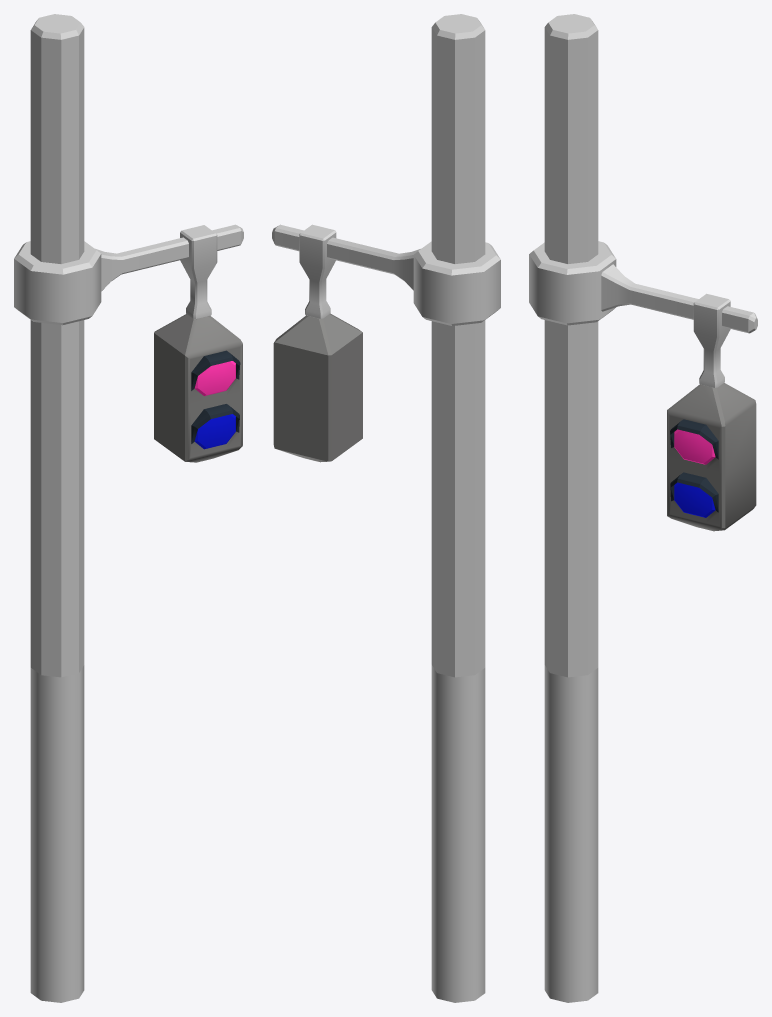
The model's file is 红绿灯03.fbx.
The picture shows the model from 3 angles, left to right: view 1: azimuth 30°, elevation 25°; view 2: azimuth 150°, elevation 25°; view 3: azimuth 330°, elevation 25°; orthographic projection.
Visible parts, largest first — view 1: Cylinder055, Box103, Cylinder057, Box104, Box102; view 2: Cylinder055, Box103, Cylinder057, Box104, Box102; view 3: Cylinder055, Box103, Cylinder057, Box104, Box102.
Part boxes in pixels (left/top/right/bottom): Cylinder055: left=30, top=14, right=84, bottom=1002; Box103: left=154, top=314, right=242, bottom=462; Cylinder057: left=14, top=241, right=101, bottom=325; Box104: left=95, top=224, right=243, bottom=291; Box102: left=180, top=225, right=217, bottom=319; Cylinder055: left=431, top=14, right=485, bottom=1002; Box103: left=273, top=313, right=362, bottom=462; Cylinder057: left=413, top=241, right=500, bottom=325; Box104: left=272, top=224, right=420, bottom=290; Box102: left=299, top=224, right=336, bottom=318; Cylinder055: left=544, top=14, right=598, bottom=1002; Box103: left=667, top=383, right=756, bottom=531; Cylinder057: left=529, top=241, right=616, bottom=325; Box104: left=601, top=264, right=757, bottom=333; Box102: left=693, top=293, right=730, bottom=387.
Bounding box in the file's own units: 74.21 × 313 × 26.28.
